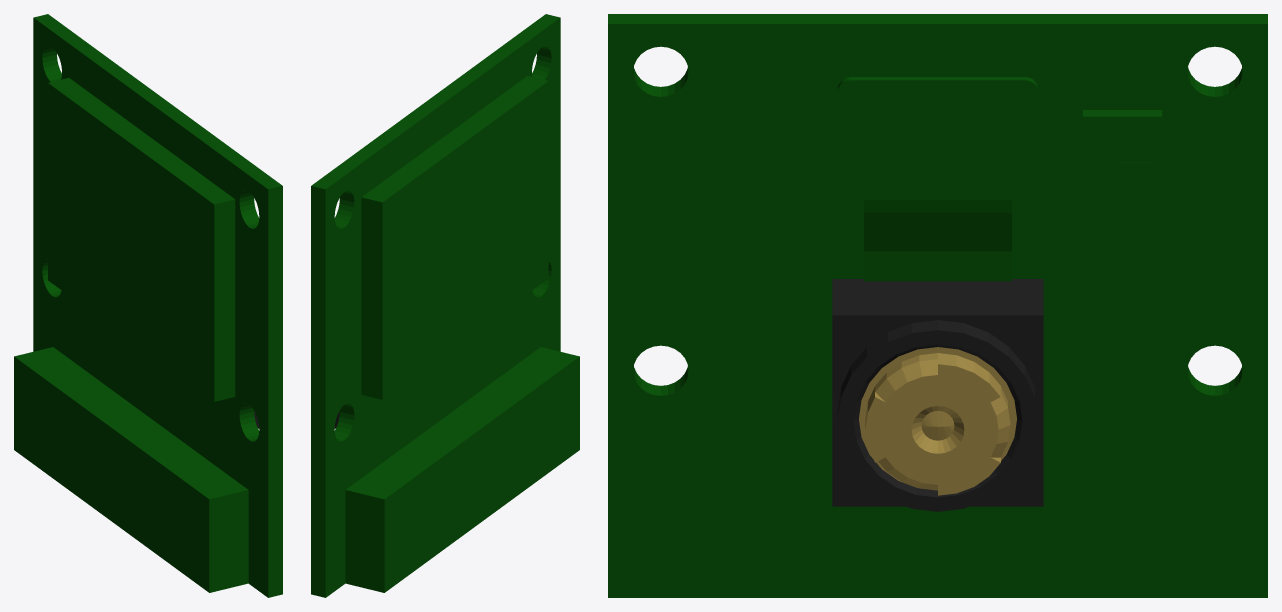
Rendered from pi_camera.dae.
3 renders of one model, left to right at view 1: azimuth 30°, elevation 25°; view 2: azimuth 150°, elevation 25°; view 3: azimuth 270°, elevation 25°, orthographic. The views are drawn at different scales.
Parts seen in each view (by area): view 1: Picam; view 2: Picam; view 3: Picam.
Boxes of the visible parts, <box> form: Picam: <box>14,14,282,597</box>; Picam: <box>311,14,579,597</box>; Picam: <box>608,14,1267,597</box>.
Bounding box in the file's own units: 0.0086 × 0.025 × 0.024.
